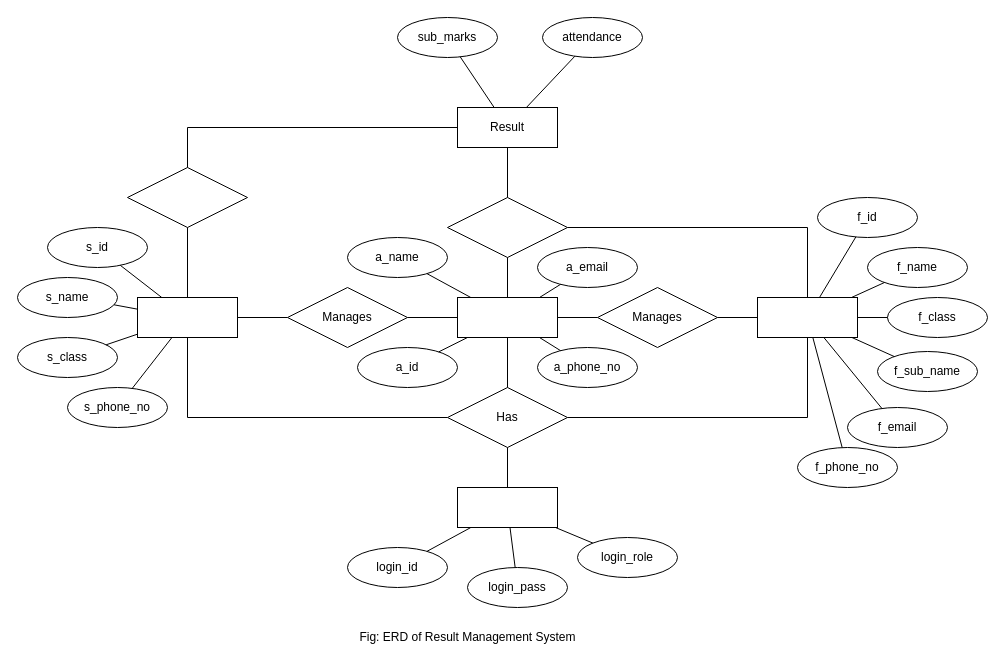
The diagram is 1005 pixels wide and 670 high, and some of its shapes have lost their labels. Each missing label, with the centre of its shape:
"Admin" belongs at pixel 507 317.
"Facilitator" belongs at pixel 807 317.
"Login" belongs at pixel 507 507.
"Student" belongs at pixel 187 317.
"Updates" belongs at pixel 507 227.
"View" belongs at pixel 187 197.
